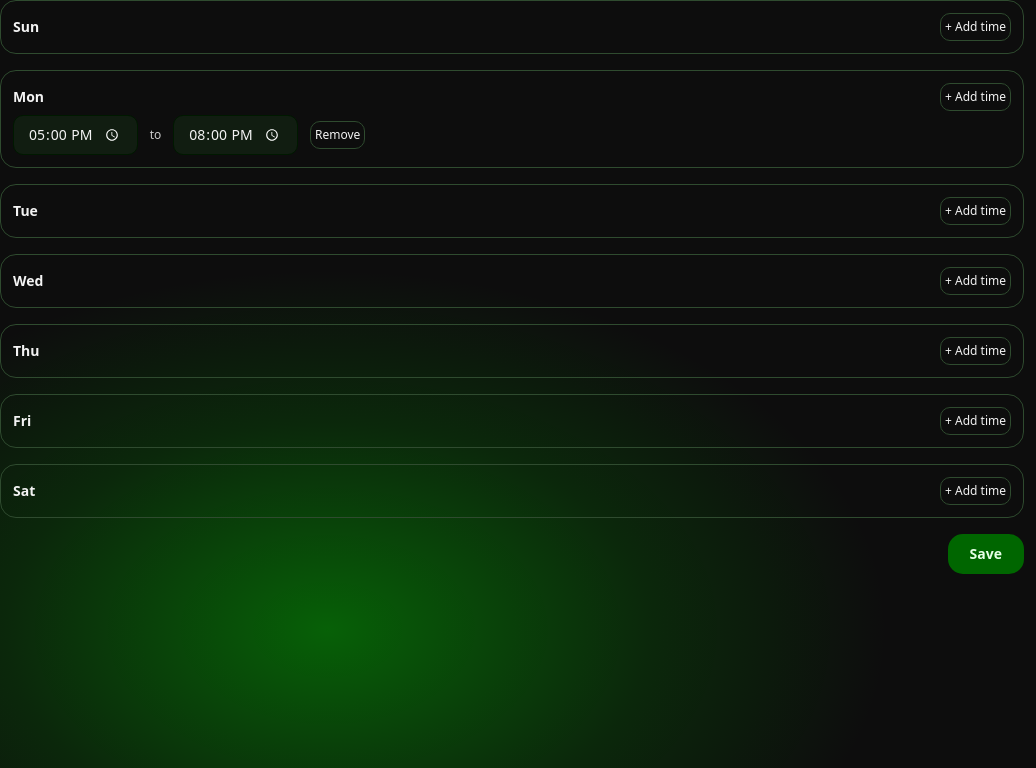
Scenario: AvailabilityGrid › edit mode › blocks save and shows an error when startTime >= endTime
The width and height of the screenshot is (1036, 768).
Replace the text in the time field named "Mon start" with "21:00" at [75, 135], box 13,115 -> 138,155
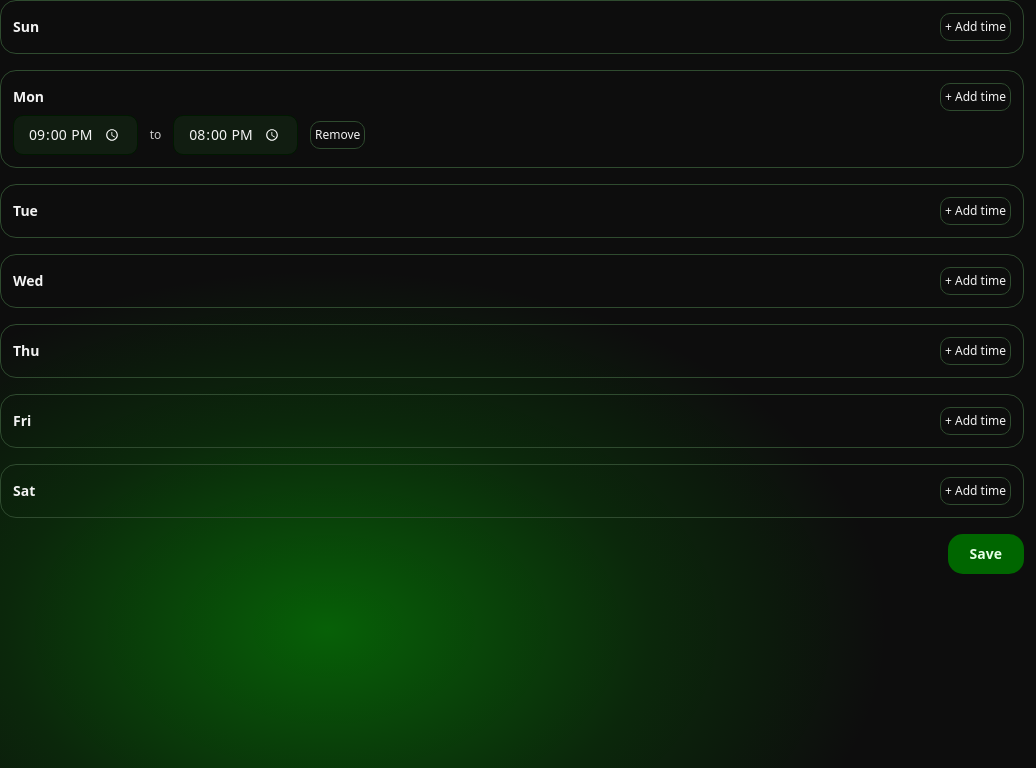
Click the button "Save" at [986, 554], box 948,534 -> 1024,574
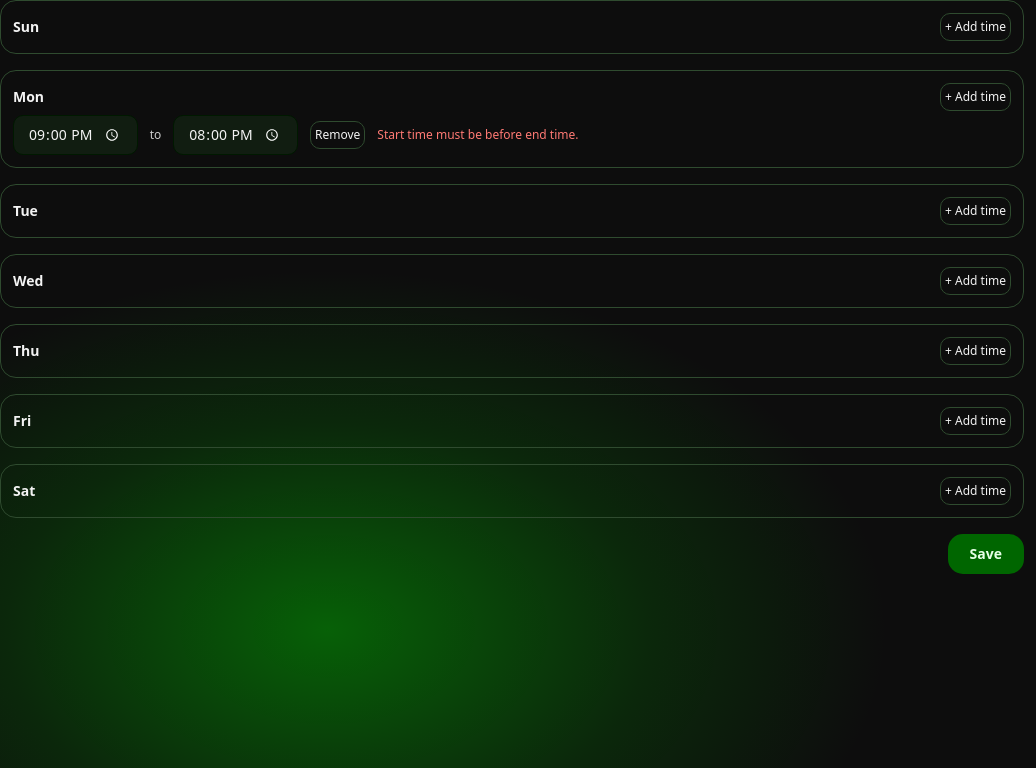
Check: the message shows "Start time must be before end time", box 377,126 -> 578,143
